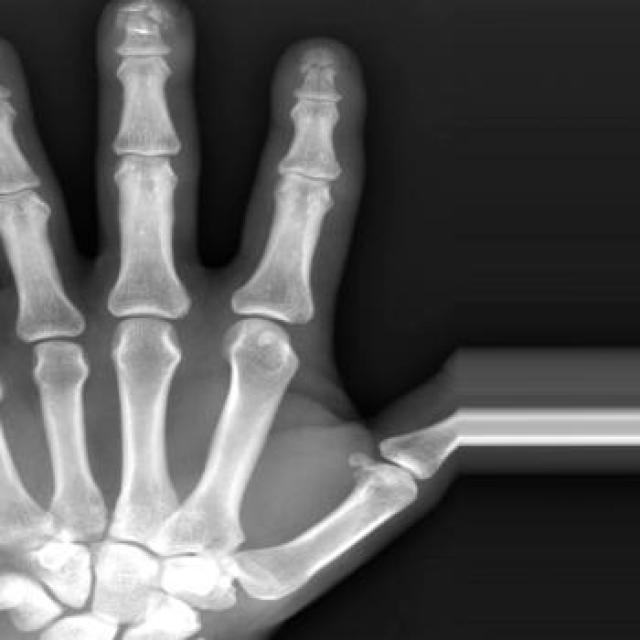Fracture: (111, 0, 178, 46), (287, 42, 355, 82)
